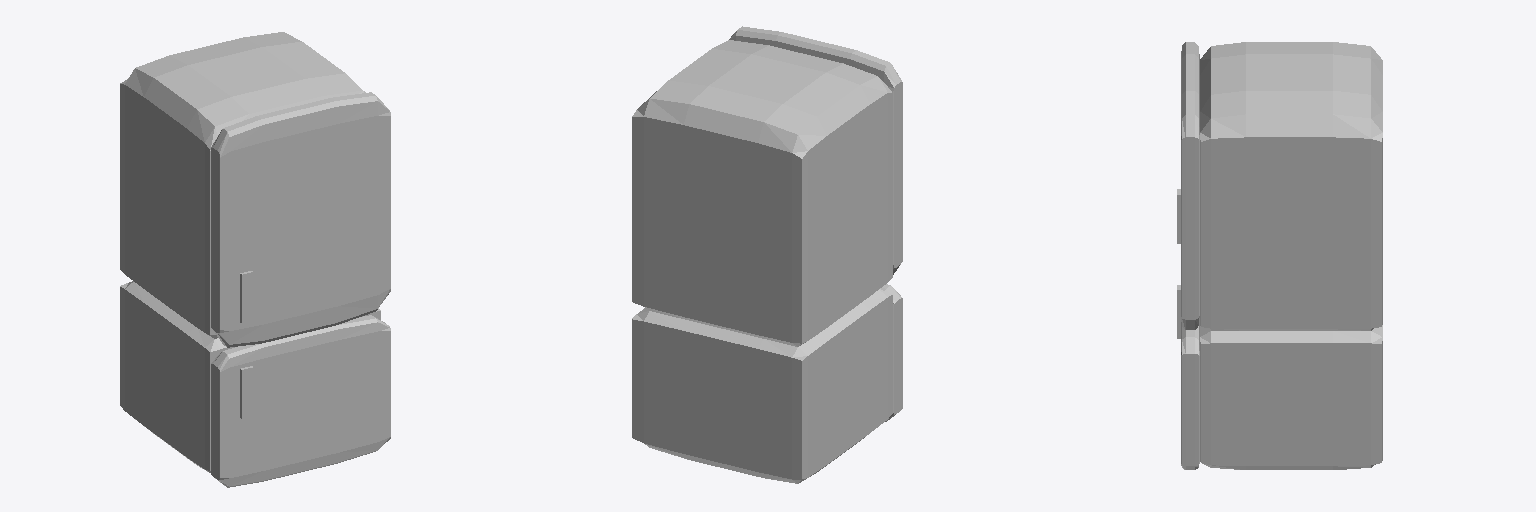
Rendered from fridge_top_5.obj.
The picture shows the model from 3 angles: view 1: azimuth 30°, elevation 25°; view 2: azimuth 150°, elevation 25°; view 3: azimuth 270°, elevation 25°; orthographic projection.
Bounding box in the file's own units: 13.67 × 27.67 × 14.2.